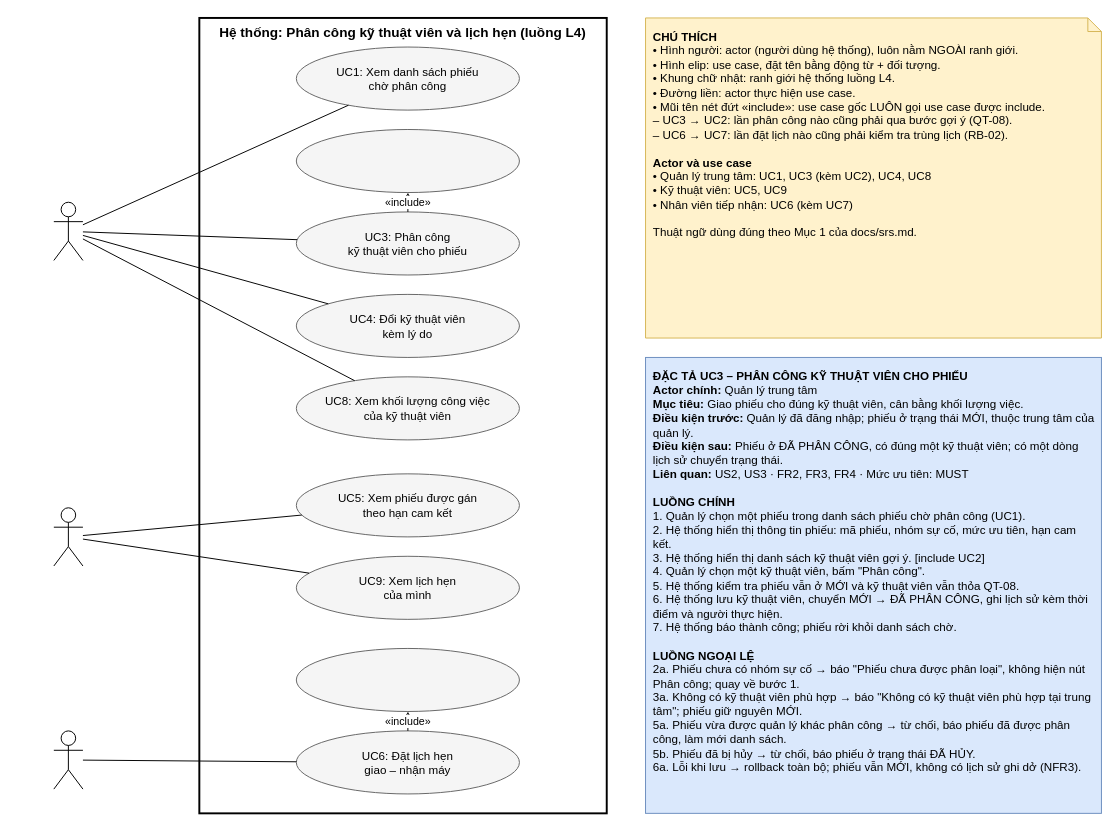
The diagram is 1118 pixels wide and 830 high, and some of its shapes have lost their labels. The shapes that lost their labels are listed below. From the top down, each one's centre as x and y in pixels, then its label:
(407,161): UC2: Xem gợi ý kỹ thuật viên phù hợp
(68,230): Quản lý trung tâm
(68,536): Kỹ thuật viên
(407,679): UC7: Kiểm tra trùng lịch kỹ thuật viên
(68,759): Nhân viên tiếp nhận
